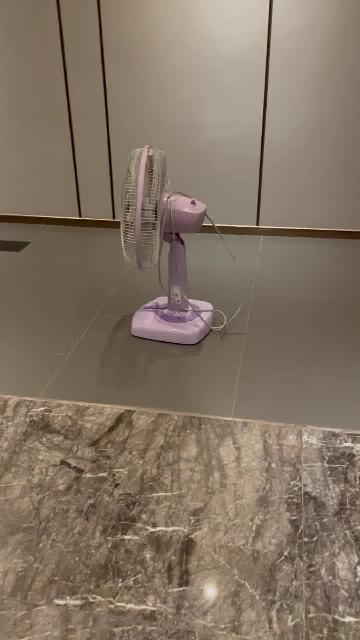Fan: (121, 145, 215, 346)
